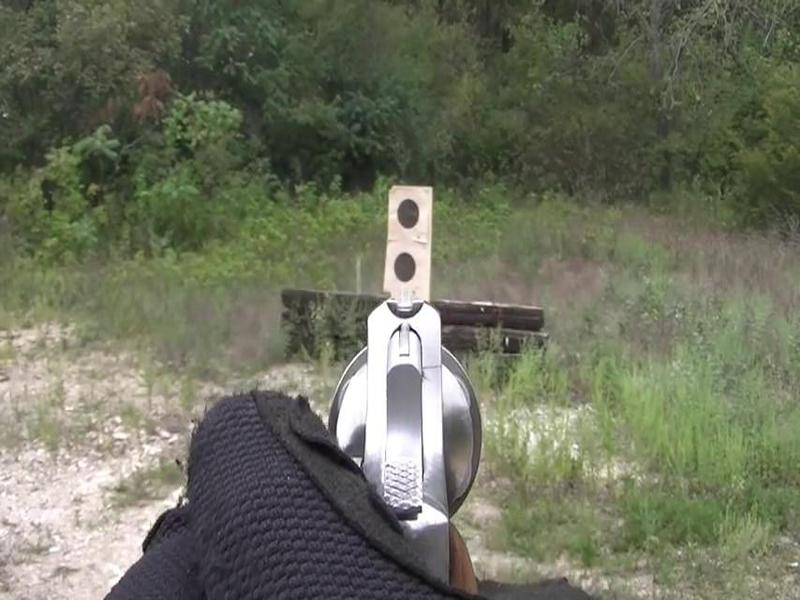Revolver: (308, 284, 497, 545)
